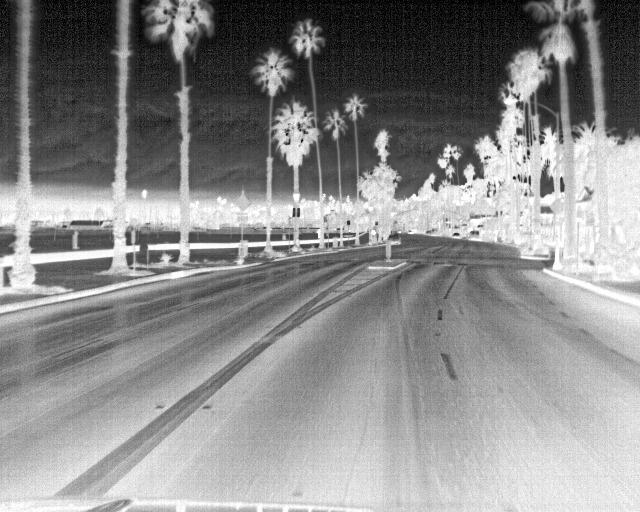car: (387, 228, 401, 245), (466, 229, 480, 241), (451, 232, 461, 241)
